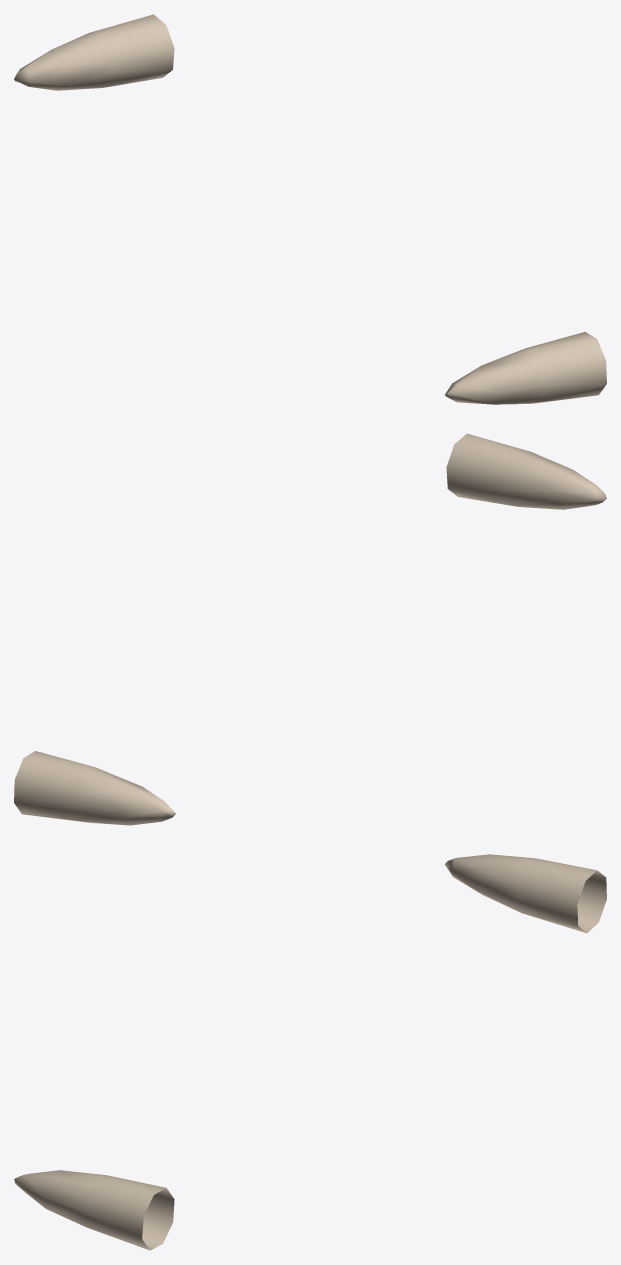
The model's file is m_jet_4c8a4083.glb.
3 views of the same model, one above another, from view 1: azimuth 30°, elevation 25°; view 2: azimuth 150°, elevation 25°; view 3: azimuth 330°, elevation 25° (orthographic).
Parts seen in each view (by area): view 1: mesh; view 2: mesh; view 3: mesh.
Part boxes in pixels (bbox=[...]): mesh: bbox=[14, 14, 606, 404]; mesh: bbox=[14, 433, 606, 825]; mesh: bbox=[14, 854, 606, 1250].
Bounding box in the file's own units: 426 × 156 × 2339.
